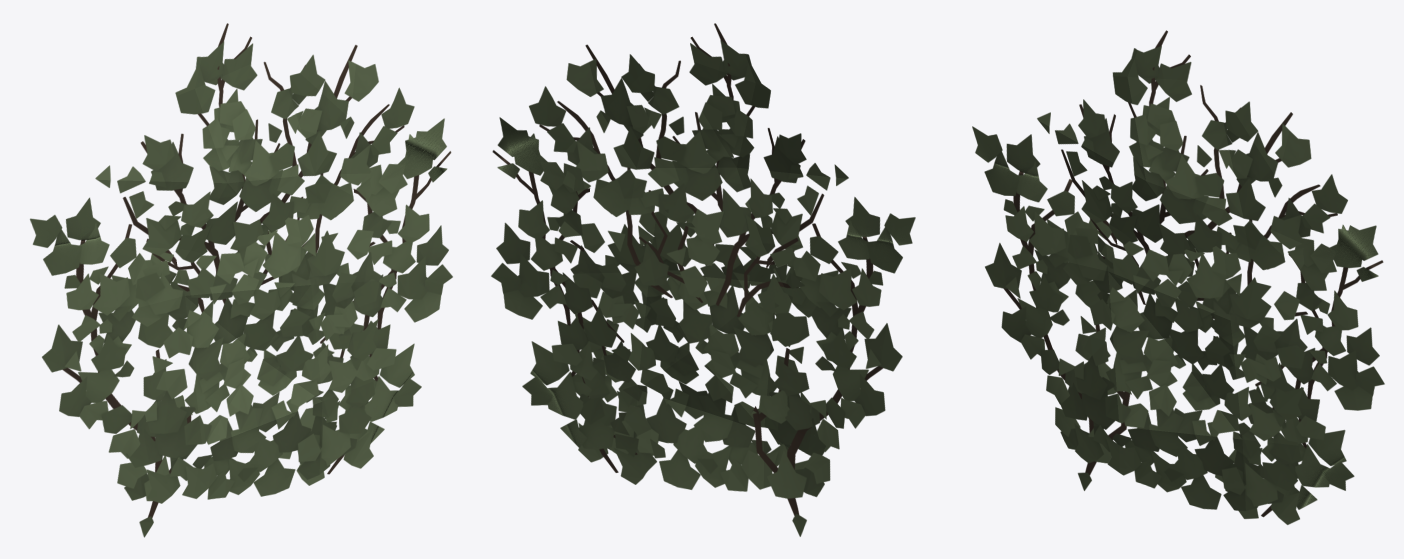
File: Env_Ivy_08.glb
The picture shows the model from 3 angles, left to right: view 1: azimuth 30°, elevation 25°; view 2: azimuth 150°, elevation 25°; view 3: azimuth 330°, elevation 25°; orthographic projection. The views are drawn at different scales.
Parts seen in each view (by area): view 1: SM_Gen_Env_Ivy_08; view 2: SM_Gen_Env_Ivy_08; view 3: SM_Gen_Env_Ivy_08.
Part boxes in pixels (bbox=[...]): SM_Gen_Env_Ivy_08: bbox=[30, 23, 452, 537]; SM_Gen_Env_Ivy_08: bbox=[491, 23, 915, 536]; SM_Gen_Env_Ivy_08: bbox=[972, 30, 1384, 524].
Bounding box in the file's own units: 2.62 × 2.95 × 0.1224.
Materials: 1 (1 with a texture image).
